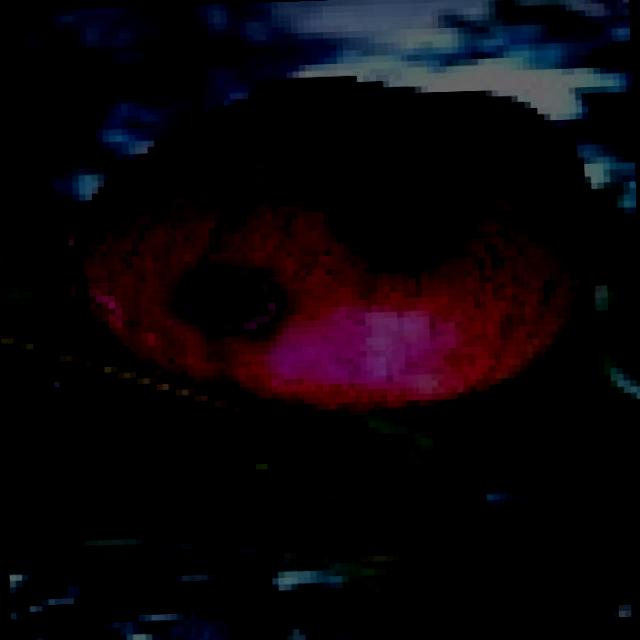Apple: (56, 73, 611, 425)
